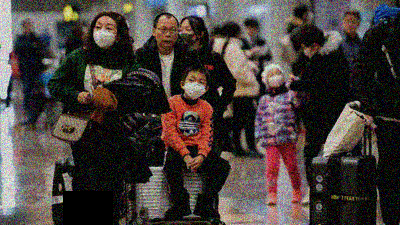with_mask: (92, 19, 117, 50), (183, 74, 205, 100), (179, 24, 197, 47), (269, 70, 285, 89), (302, 43, 318, 59)
without_mask: (156, 22, 177, 48), (343, 15, 359, 34)
